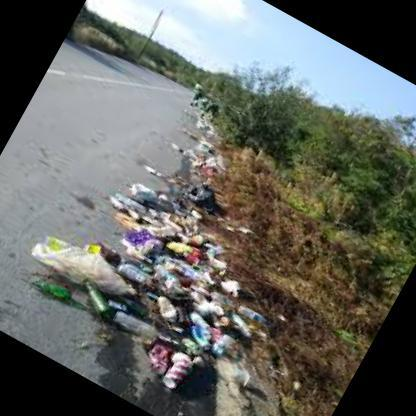Garbage: (43, 179, 300, 415), (3, 218, 237, 404), (139, 144, 231, 241)
